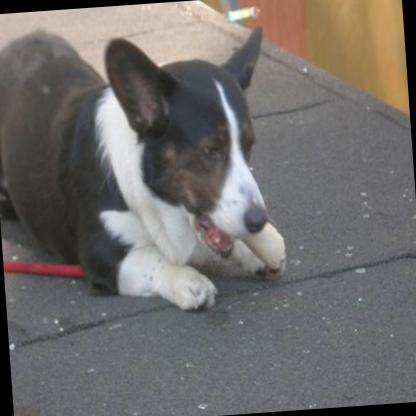Cardigan: (0, 11, 290, 324)
